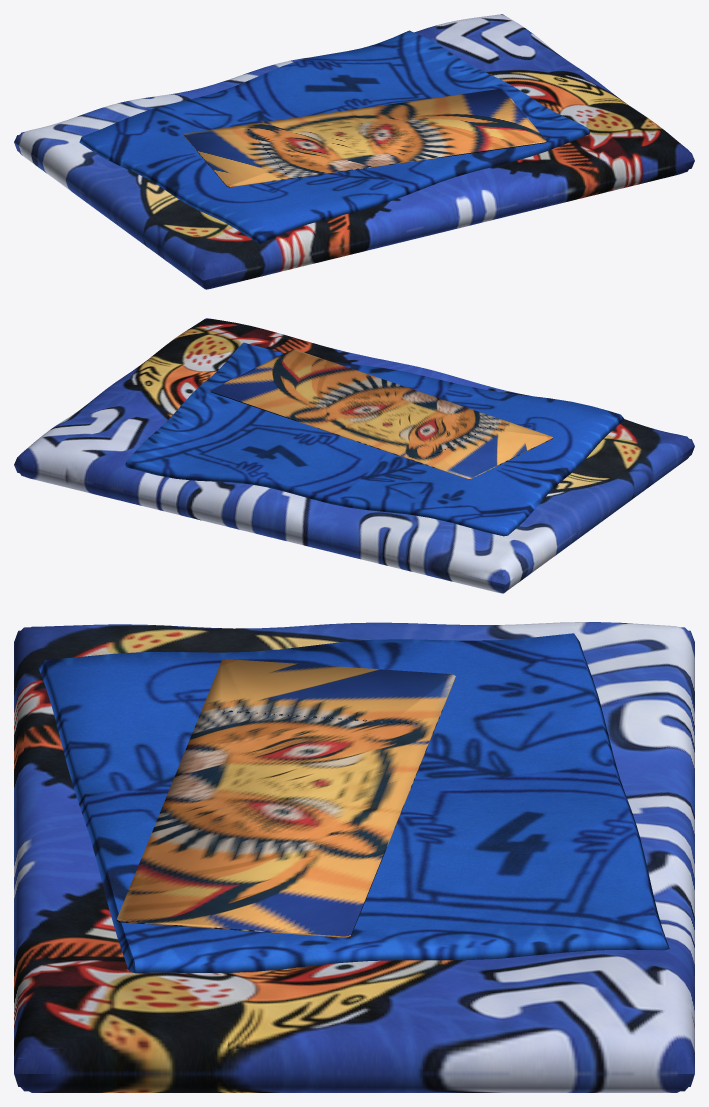
The model's file is bengal-t20.mobile.glb.
3 views of the same model, one above another, from view 1: azimuth 30°, elevation 25°; view 2: azimuth 150°, elevation 25°; view 3: azimuth 270°, elevation 25° (orthographic). The views are drawn at different scales.
Parts seen in each view (by area): view 1: flag, jersey, ticket; view 2: flag, jersey, ticket; view 3: flag, jersey, ticket.
Part boxes in pixels (x1,y1,x2,y2): flag: [14, 14, 694, 289]; jersey: [79, 30, 589, 243]; ticket: [183, 89, 546, 187]; flag: [14, 318, 694, 593]; jersey: [124, 342, 624, 536]; ticket: [210, 349, 552, 479]; flag: [14, 622, 694, 1092]; jersey: [38, 633, 669, 973]; ticket: [117, 659, 455, 937].
Size of the model in its own units: 0.3 by 0.0282 by 0.2.
3 materials, 3 textured.
